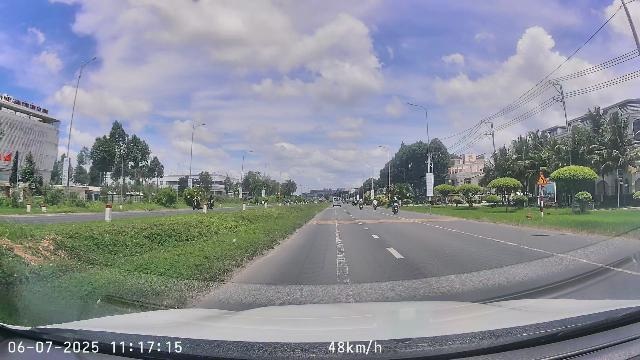201-cho-ngoat-nguy-hiem: (537, 173, 548, 185)
